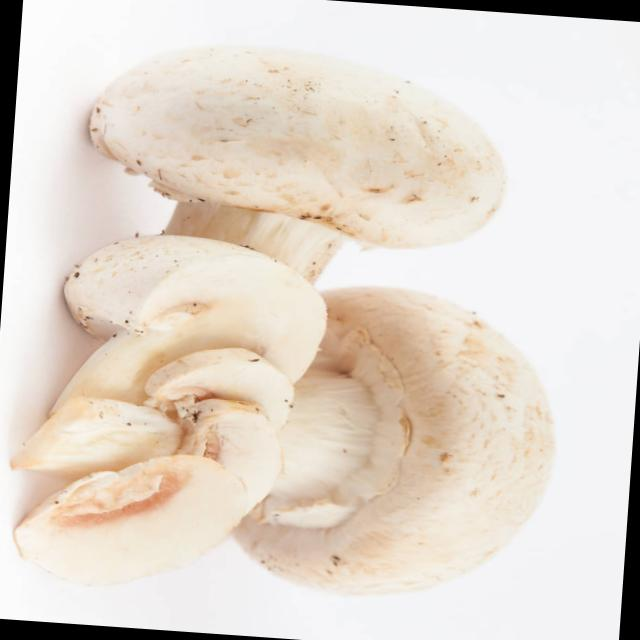Agaricus bisporus: (76, 34, 514, 339), (1, 225, 339, 604), (226, 278, 564, 612)
